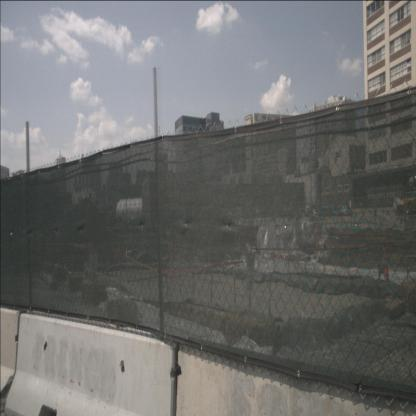barrier: (3, 312, 176, 416), (174, 348, 416, 416), (0, 308, 21, 414)
cone: (384, 246, 391, 302), (314, 231, 320, 260)
